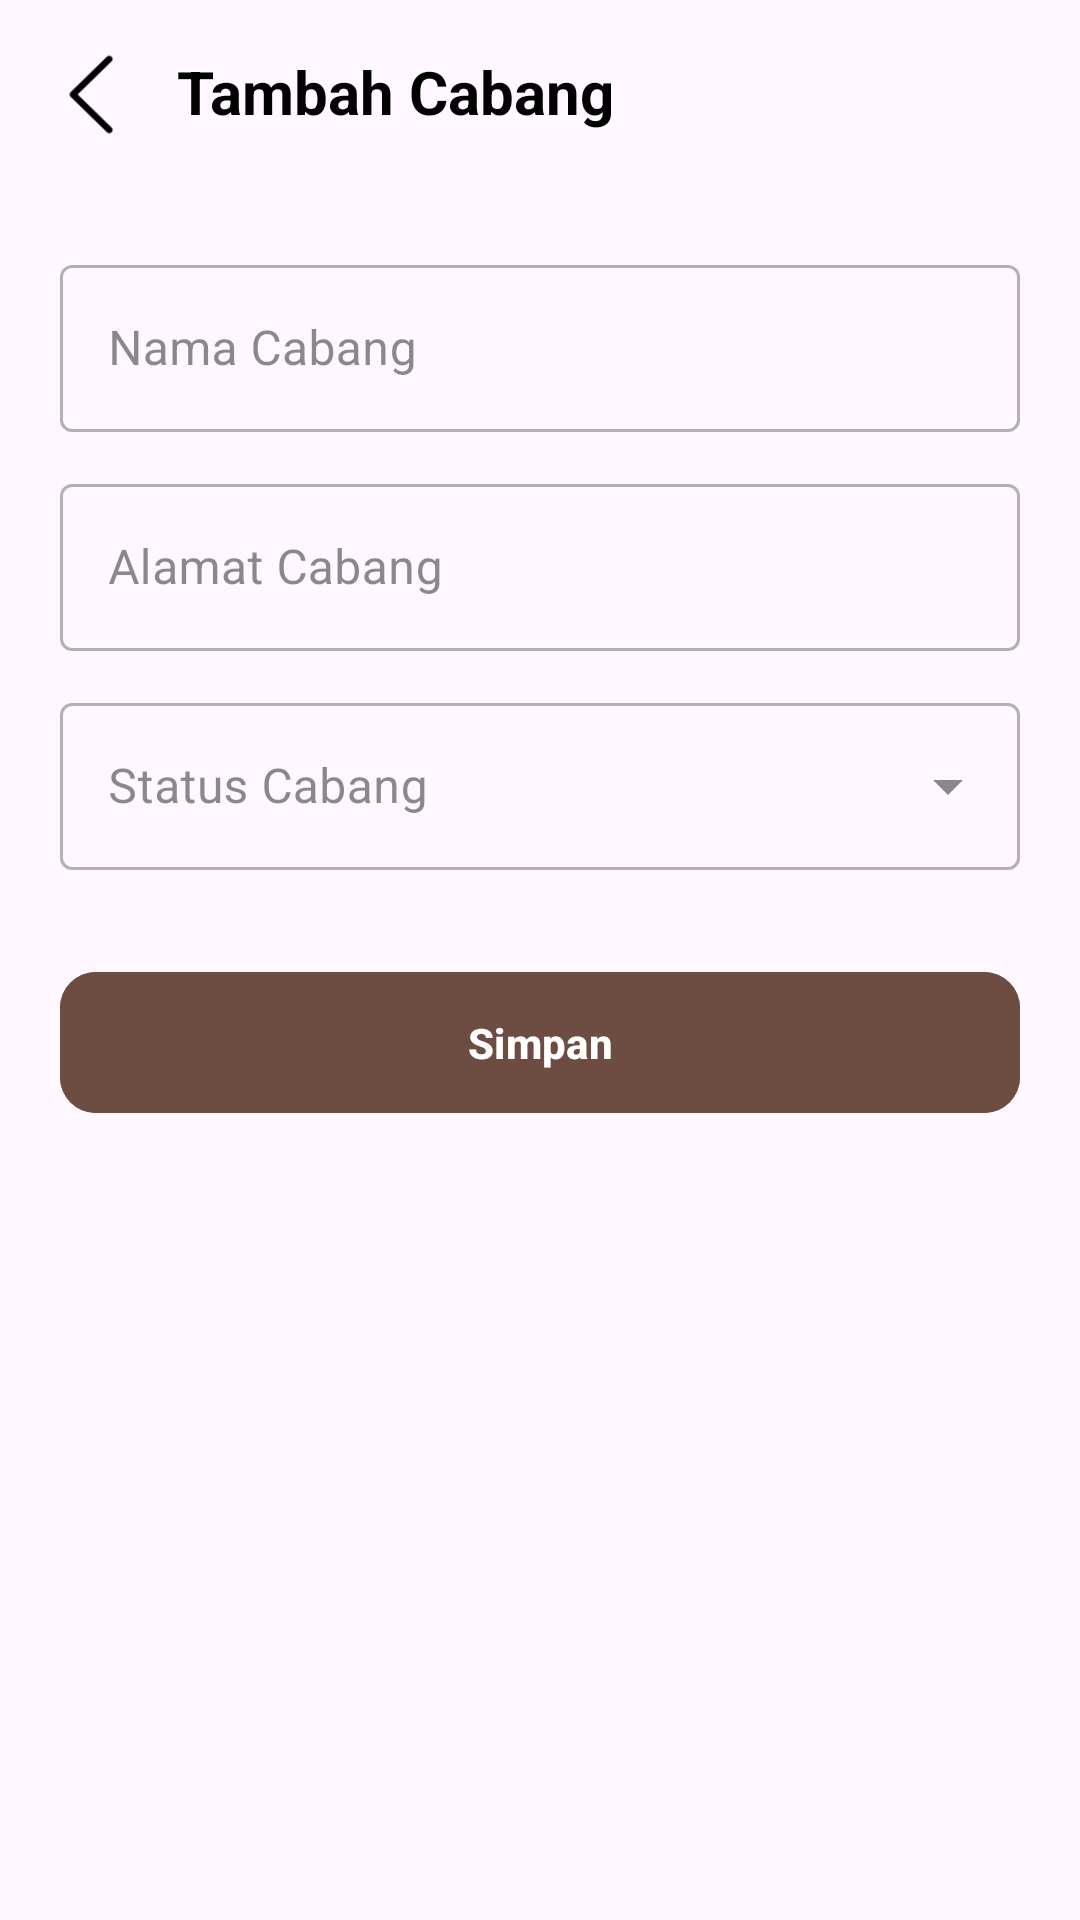

Icon bounding boxes for this 1080x1920 phone screenshot, format (x1=x1, y1=y1, x2=x2, y2=y2):
Kembali: (x1=69, y1=55, x2=113, y2=134)
